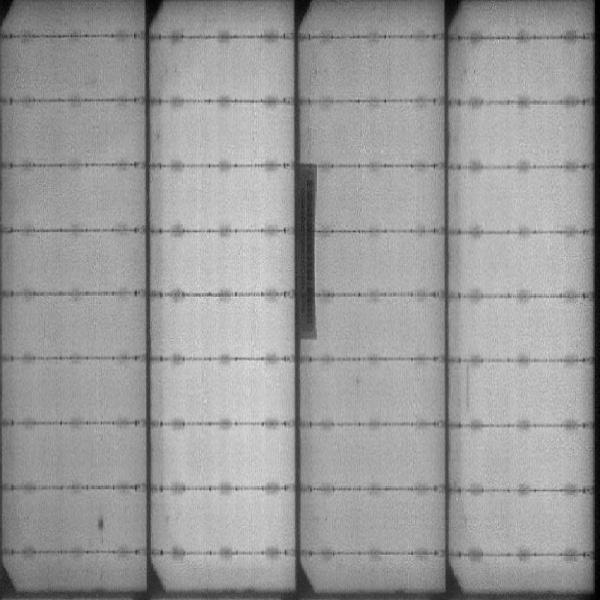black_border: (290, 158, 318, 338)
